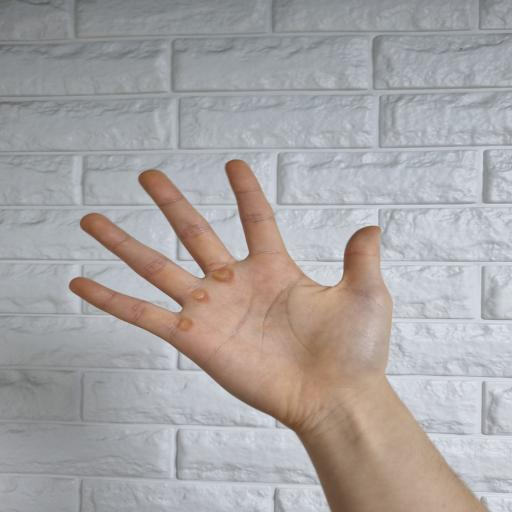Paper: (68, 156, 396, 430)
